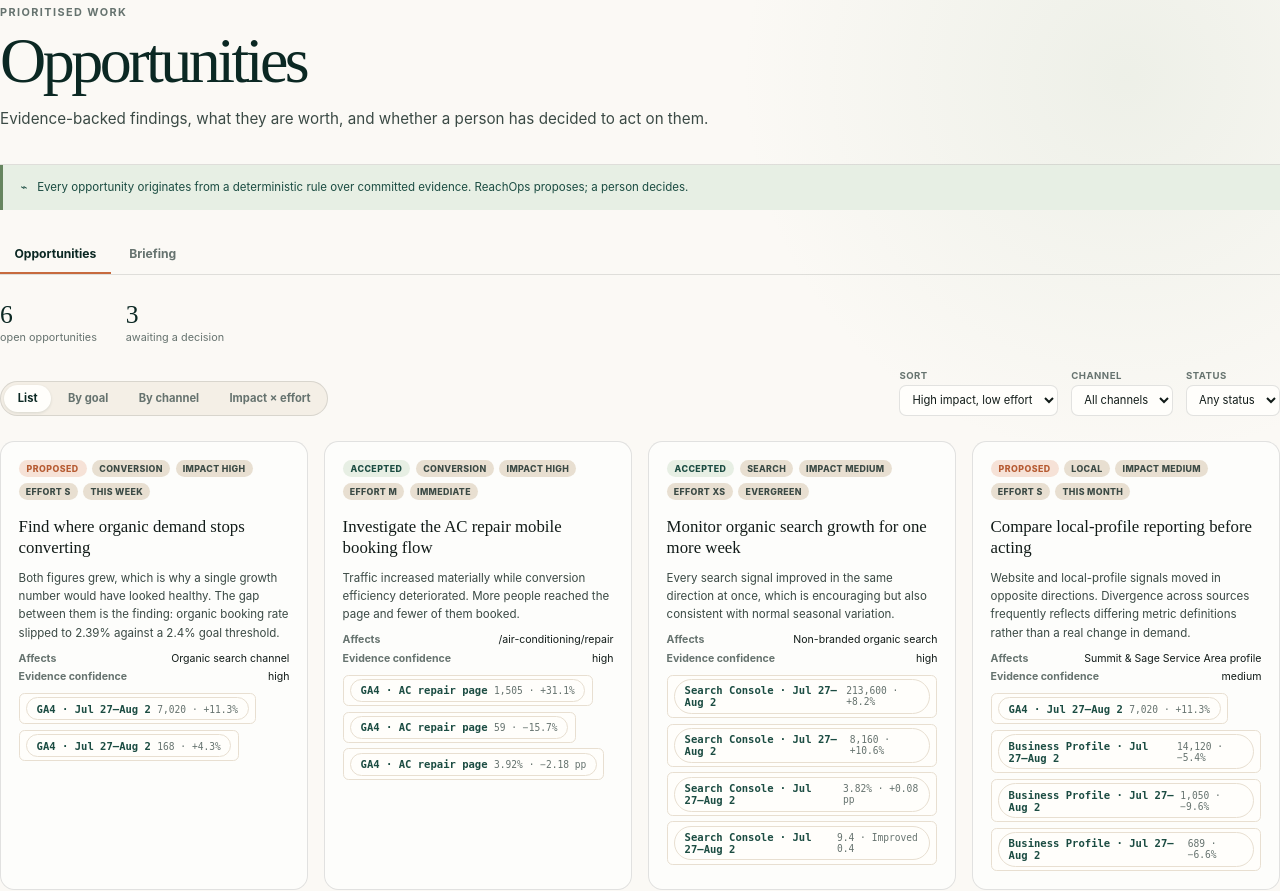
Test: OpportunitiesView › freezes a baseline when work is accepted
Step 1. Click the button "Find where organic demand stops converting" → (154, 538), box [19,517,289,559]
(page scrolled)
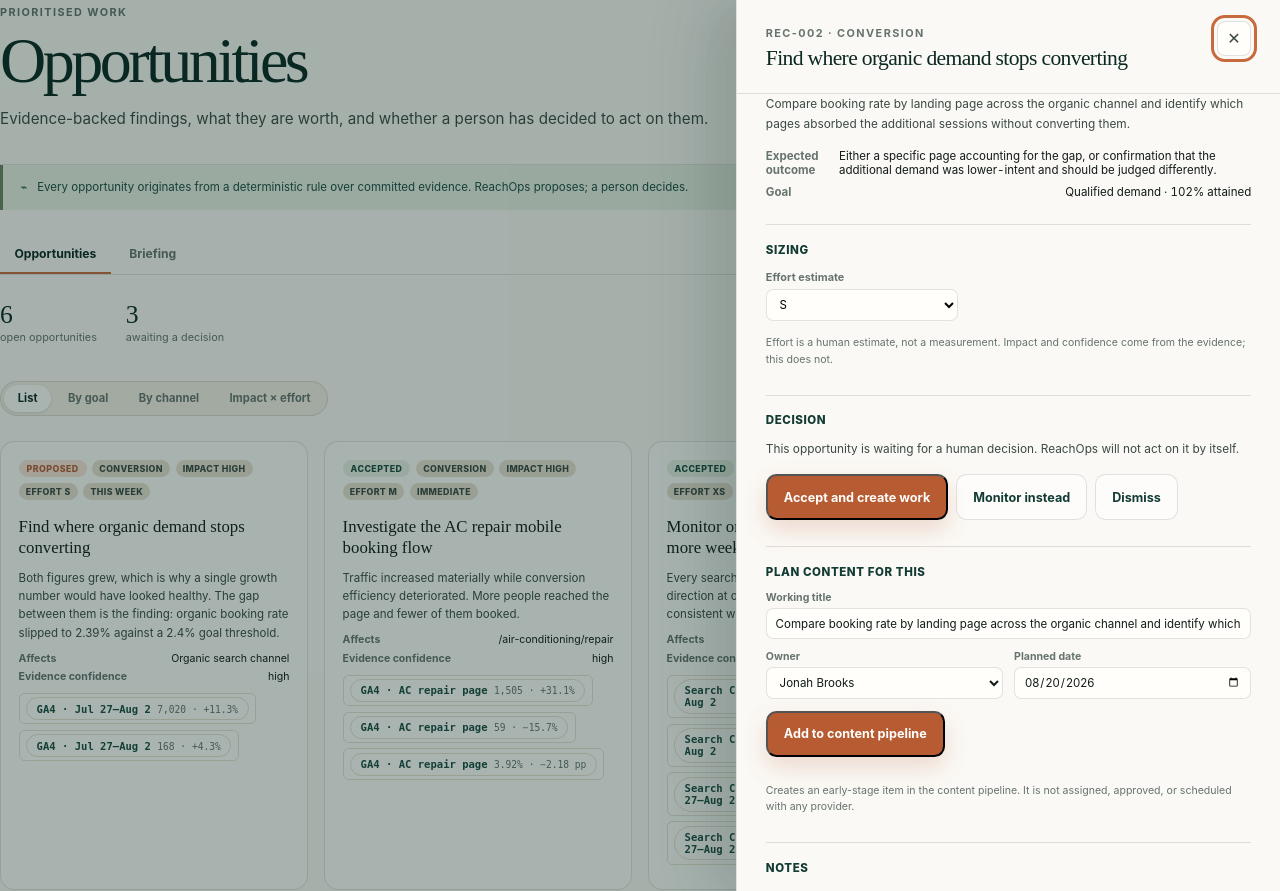
Step 2. Click the button "Accept and create work" → (857, 497), box [766,474,948,520]
(page scrolled)
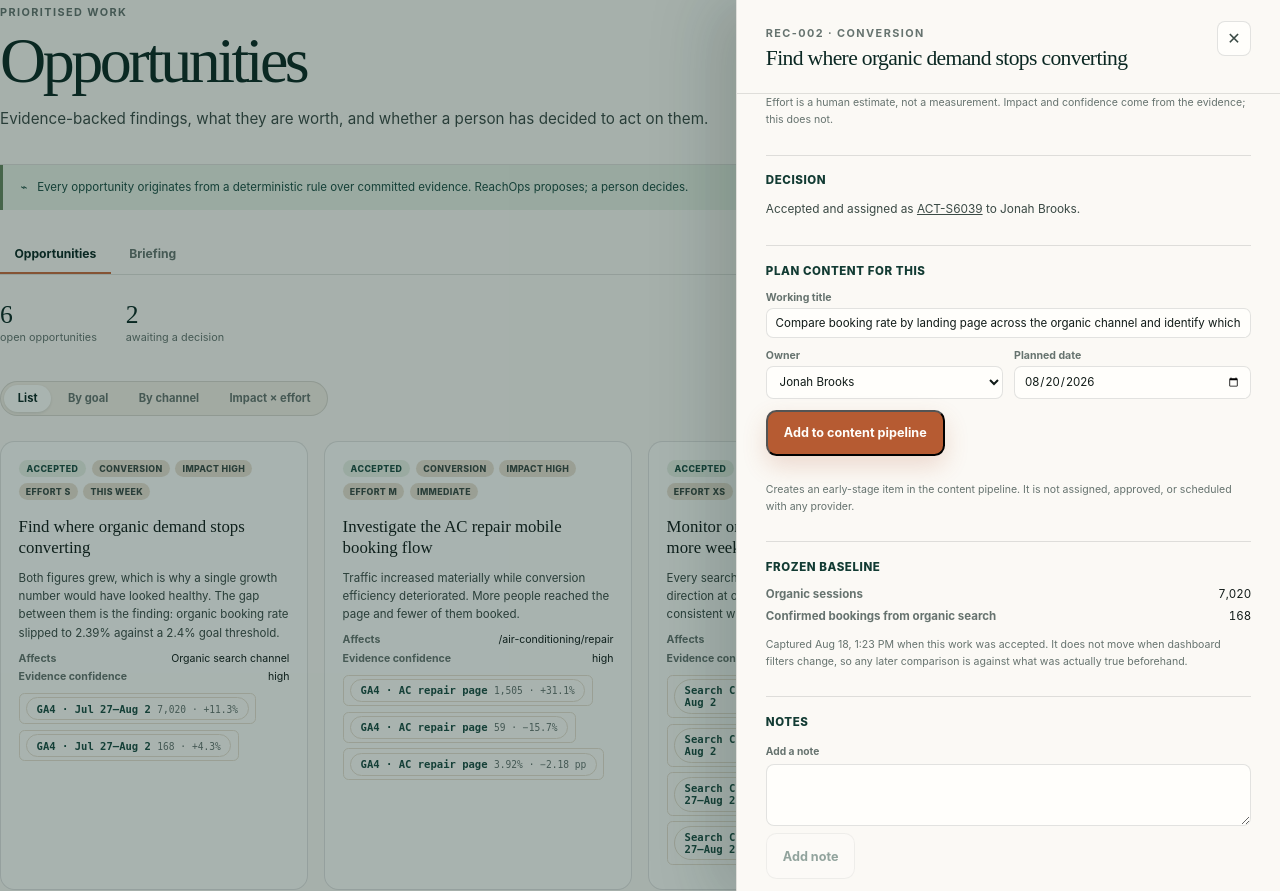
Result: the heading "Frozen baseline" is shown at [766,560,880,574]
Result: the text "does not move when dashboard filters change" is shown at [766,638,1221,668]
